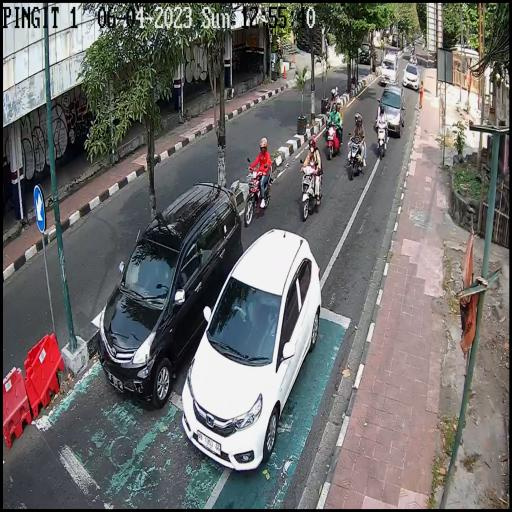mobil: (184, 229, 322, 478), (97, 177, 244, 404), (377, 84, 406, 136), (380, 53, 398, 84), (402, 64, 419, 90)
motor: (245, 157, 272, 226), (300, 159, 322, 221), (349, 133, 366, 178), (326, 121, 343, 161), (375, 119, 388, 157)
